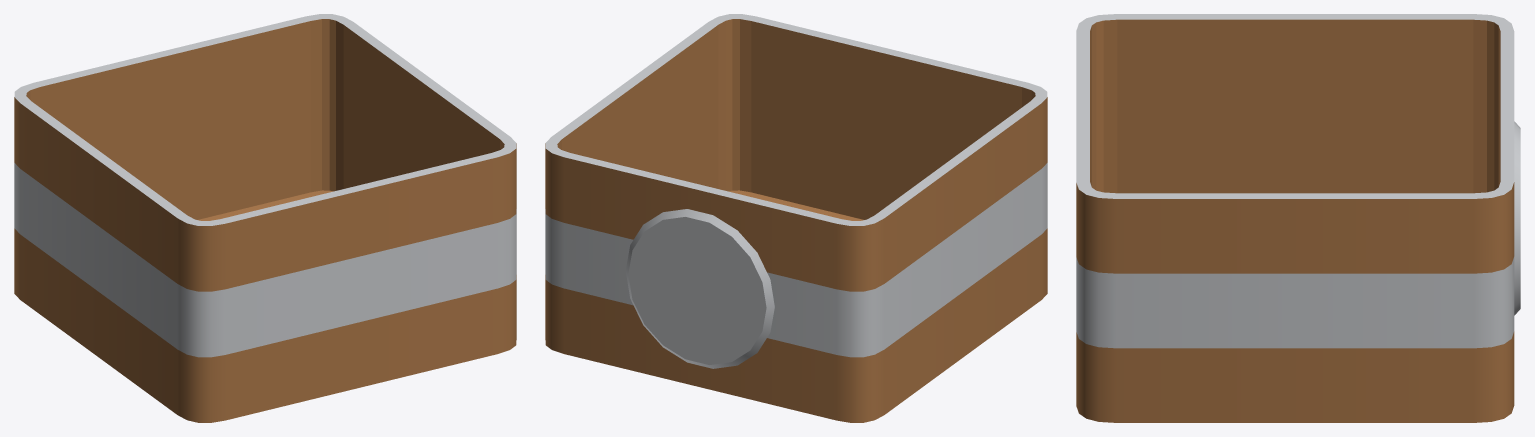
The model's file is Caja-Dados Naranja.FBX.
3 renders of one model, left to right at view 1: azimuth 30°, elevation 25°; view 2: azimuth 150°, elevation 25°; view 3: azimuth 270°, elevation 25°, orthographic. The views are drawn at different scales.
Visible parts, largest first — view 1: Box004; view 2: Box004; view 3: Box004.
Boxes of the visible parts, left/top/right/bottom form: Box004: left=14, top=14, right=516, bottom=422; Box004: left=545, top=14, right=1047, bottom=422; Box004: left=1076, top=14, right=1520, bottom=422.
Bounding box in the file's own units: 25 × 25.37 × 14.11.
